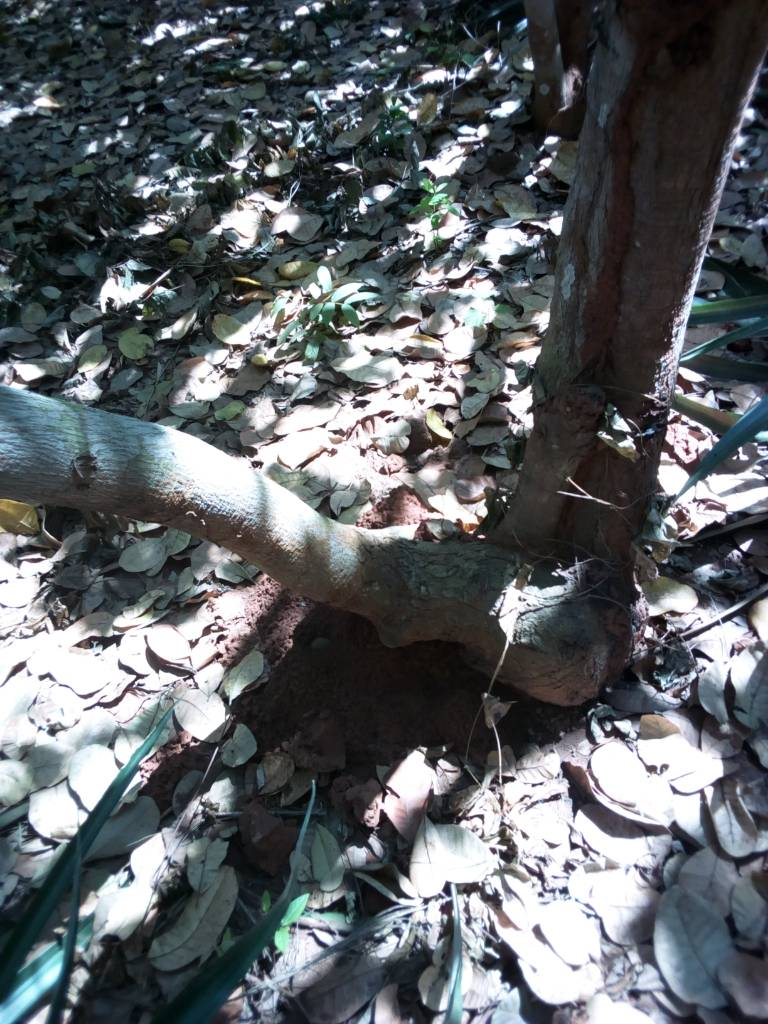Termites: (544, 94, 647, 500), (268, 610, 474, 741)
